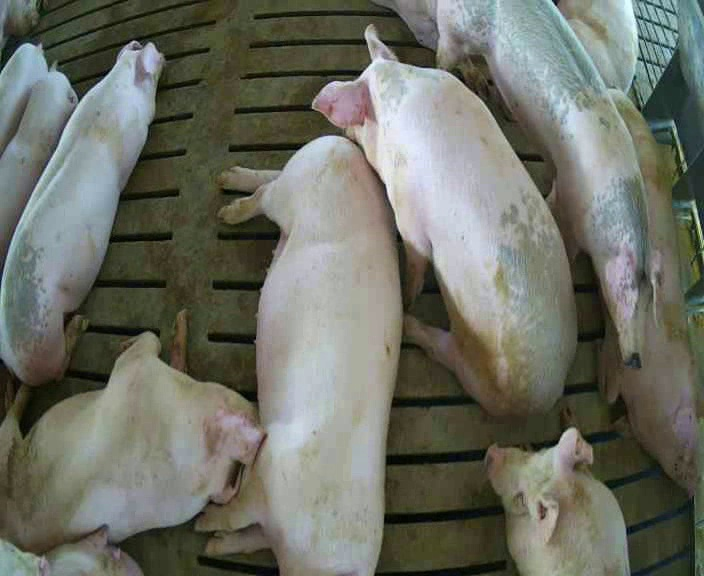pig: (313, 26, 576, 413), (196, 136, 400, 574), (437, 3, 662, 366), (0, 309, 263, 551), (597, 90, 695, 491), (486, 405, 629, 574), (0, 71, 77, 271), (552, 0, 638, 92), (0, 43, 47, 154)
